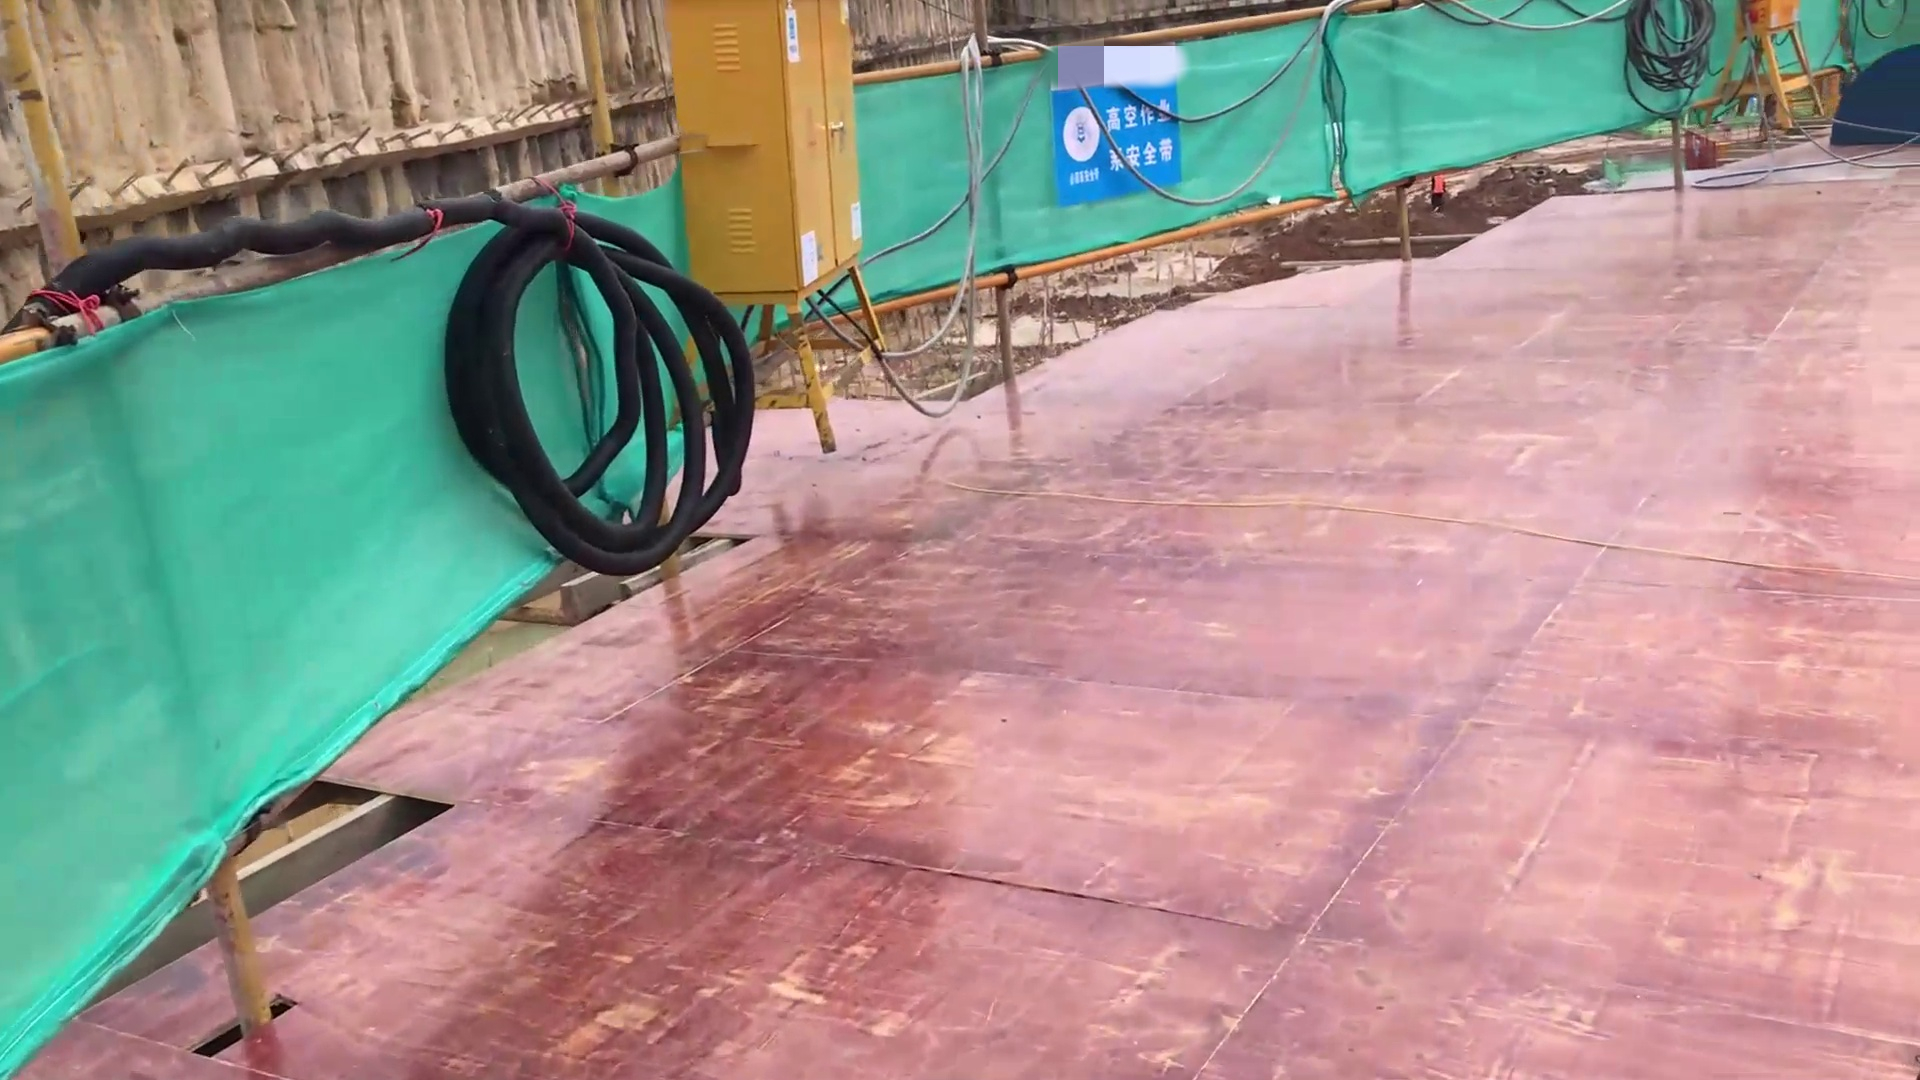ebox: (659, 1, 898, 324)
slogan: (1071, 79, 1207, 196)
